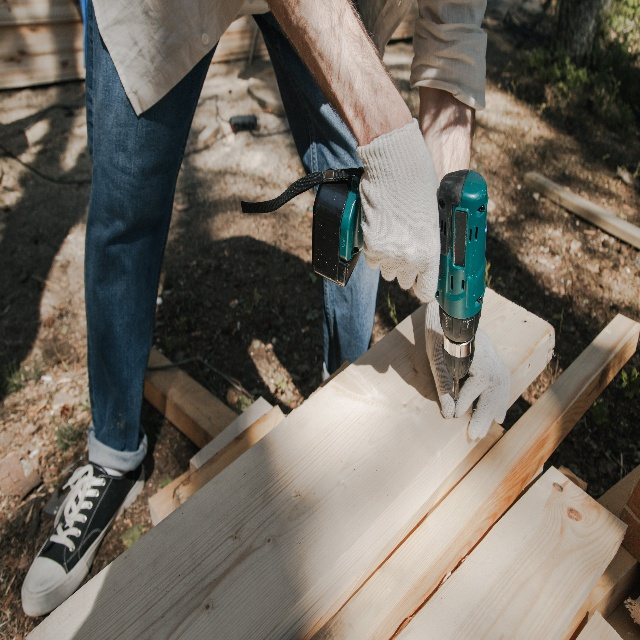Guantes: (356, 120, 441, 303), (424, 297, 511, 439)
